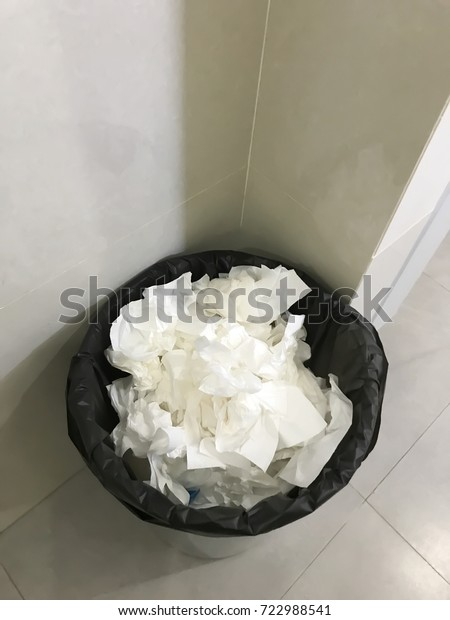Tissue: (186, 345, 326, 457)
